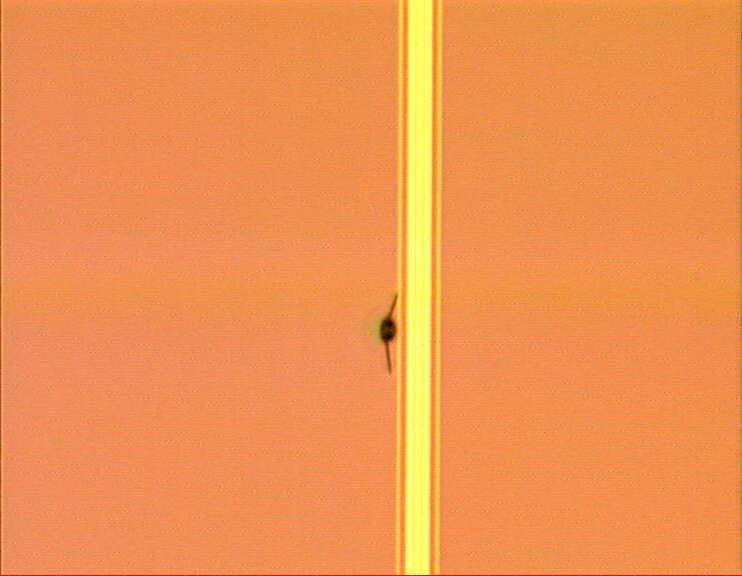PIQ PARTICLE: (375, 288, 409, 380)
